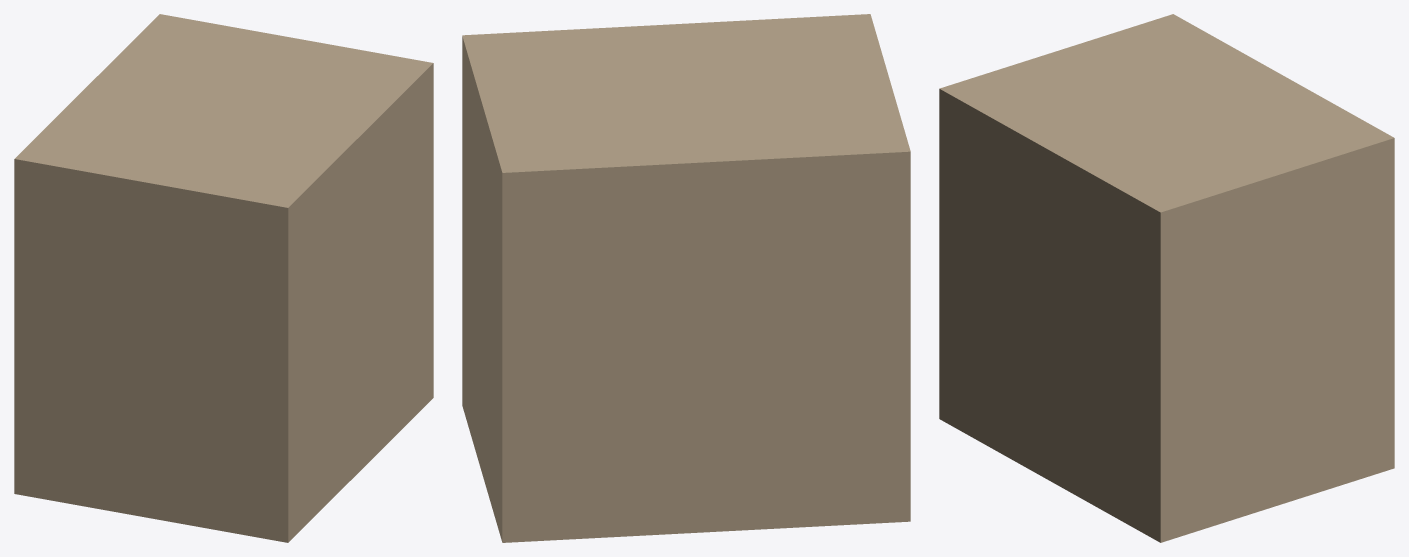
Rendered from bld_101805802.dae.
3 renders of one model, left to right at view 1: azimuth 30°, elevation 25°; view 2: azimuth 150°, elevation 25°; view 3: azimuth 270°, elevation 25°, orthographic. The views are drawn at different scales.
Parts seen in each view (by area): view 1: bld_101805802; view 2: bld_101805802; view 3: bld_101805802.
Boxes of the visible parts, bbox=[...] form: bld_101805802: bbox=[14, 14, 433, 542]; bld_101805802: bbox=[462, 14, 910, 542]; bld_101805802: bbox=[939, 14, 1394, 542].
Size of the model in its own units: 10.31 by 9.99 by 8.
